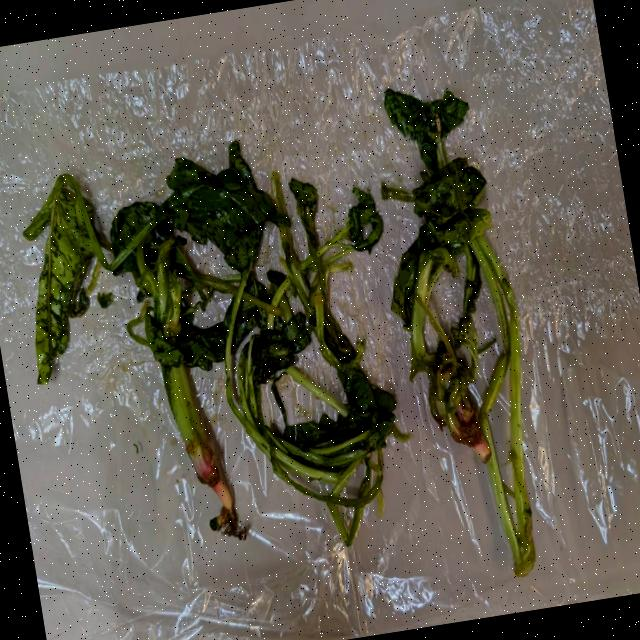rotten spinach: (0, 52, 579, 640), (310, 43, 567, 598), (166, 104, 414, 576), (102, 174, 245, 583), (0, 135, 121, 352)
